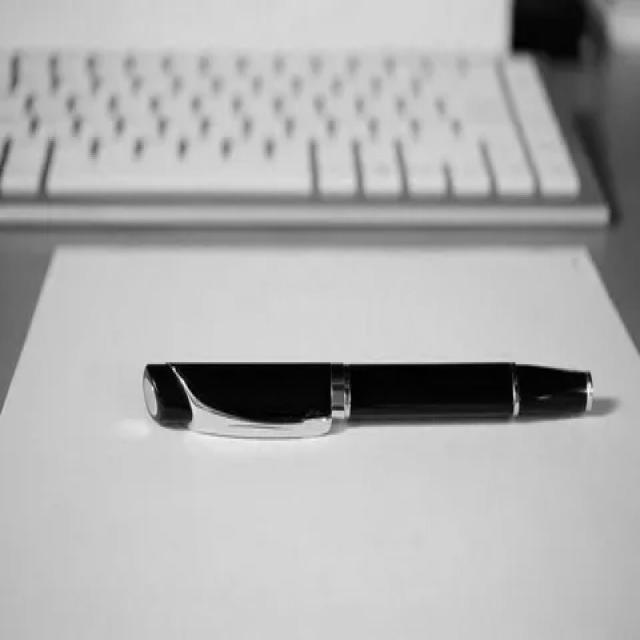pencil: (138, 346, 605, 460)
